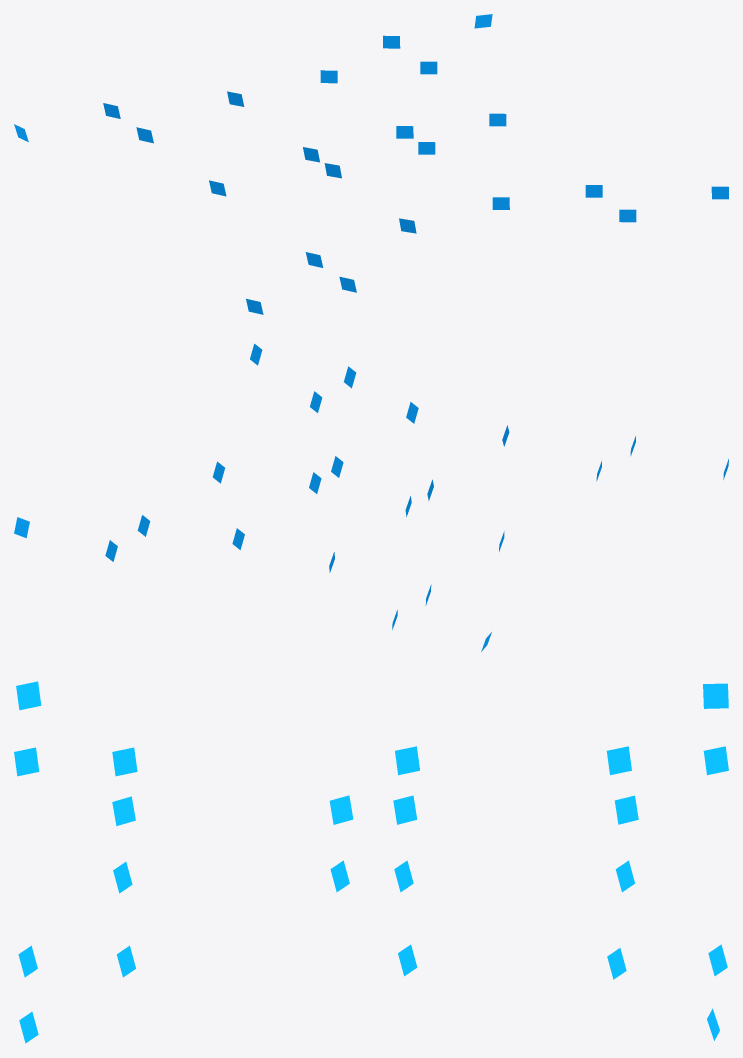
Rendered from CombinedMeshes_SmallBloom.fbx.
The picture shows the model from 3 angles, top to bottom: view 1: azimuth 30°, elevation 25°; view 2: azimuth 150°, elevation 25°; view 3: azimuth 270°, elevation 25°; orthographic projection. The views are drawn at different scales.
Parts seen in each view (by area): view 1: CombinedMeshes_SmallBloom; view 2: CombinedMeshes_SmallBloom; view 3: CombinedMeshes_SmallBloom.
Boxes of the visible parts, x1,y1,x2,y2 form: CombinedMeshes_SmallBloom: (14,14,728,314); CombinedMeshes_SmallBloom: (14,343,728,651); CombinedMeshes_SmallBloom: (14,681,728,1043).
Bounding box in the file's own units: 3396 × 187 × 3008.
